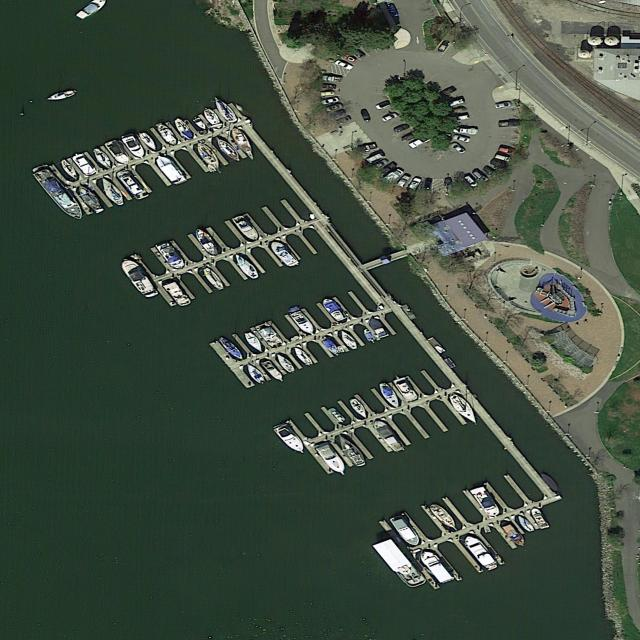large-vehicle: (382, 168, 405, 185), (407, 135, 430, 149), (377, 162, 398, 177), (348, 46, 366, 59), (357, 142, 378, 153), (399, 131, 420, 142), (489, 158, 508, 170), (438, 86, 457, 98), (482, 165, 499, 178), (334, 115, 354, 126), (454, 127, 479, 135), (498, 120, 522, 128), (340, 52, 357, 63), (437, 40, 451, 53), (498, 146, 516, 156), (446, 98, 466, 107), (329, 109, 347, 119), (444, 178, 456, 190), (320, 83, 338, 90), (423, 179, 433, 191), (319, 91, 334, 97)
ship: (29, 165, 87, 223), (371, 540, 429, 590), (116, 256, 160, 300), (460, 534, 502, 572), (312, 440, 353, 478), (331, 431, 371, 469), (445, 391, 484, 427), (369, 418, 408, 454), (388, 513, 426, 549), (272, 422, 310, 457), (418, 549, 455, 584), (152, 153, 190, 187), (227, 127, 262, 162), (426, 501, 462, 533), (470, 486, 506, 518), (230, 251, 266, 282), (74, 183, 109, 214), (116, 170, 151, 201), (94, 176, 128, 207), (266, 238, 300, 268), (190, 227, 224, 257), (154, 241, 188, 271), (372, 381, 406, 410), (192, 142, 226, 171), (210, 135, 244, 164), (496, 521, 530, 550), (208, 94, 240, 124), (231, 214, 263, 243), (161, 280, 194, 308), (216, 334, 248, 362), (288, 309, 318, 337), (197, 265, 228, 292), (254, 322, 286, 348), (319, 297, 350, 323), (103, 140, 134, 166), (152, 122, 182, 147), (120, 133, 148, 159), (88, 147, 118, 171), (393, 377, 421, 402), (72, 153, 100, 177), (241, 331, 268, 355), (260, 360, 287, 384), (170, 117, 198, 140), (43, 87, 80, 104), (56, 158, 81, 182), (336, 329, 362, 352), (290, 345, 316, 368), (346, 397, 372, 420), (200, 108, 226, 131), (317, 336, 344, 358), (528, 507, 552, 531), (272, 352, 298, 374), (366, 317, 391, 339), (243, 363, 268, 385), (538, 471, 562, 493), (138, 131, 162, 152), (515, 515, 536, 534), (427, 337, 446, 354), (327, 407, 347, 423), (400, 304, 418, 321), (191, 116, 209, 131), (360, 328, 376, 342), (444, 358, 456, 369), (434, 345, 446, 353)
small-vehicle: (449, 141, 468, 155), (371, 158, 390, 172), (334, 59, 354, 72), (406, 178, 423, 192), (394, 175, 412, 188), (471, 170, 489, 183), (462, 175, 479, 188), (381, 112, 400, 123), (324, 103, 344, 113), (392, 123, 410, 134), (452, 134, 471, 144), (374, 101, 392, 111), (494, 153, 512, 163), (322, 75, 344, 83), (321, 96, 340, 105), (494, 101, 512, 110), (360, 110, 372, 123)
storage-tank: (588, 36, 602, 46), (605, 36, 619, 45), (578, 49, 590, 58)
